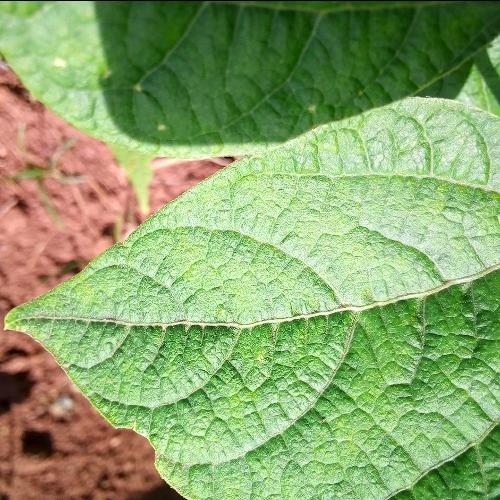mozaik: (201, 217, 490, 460)
